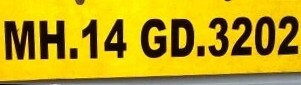character: (2, 18, 37, 61), (139, 18, 168, 60), (37, 19, 66, 60), (169, 17, 195, 58), (103, 17, 128, 59), (229, 16, 254, 57), (277, 15, 301, 56), (208, 16, 230, 58), (254, 16, 276, 56), (81, 18, 98, 60)
